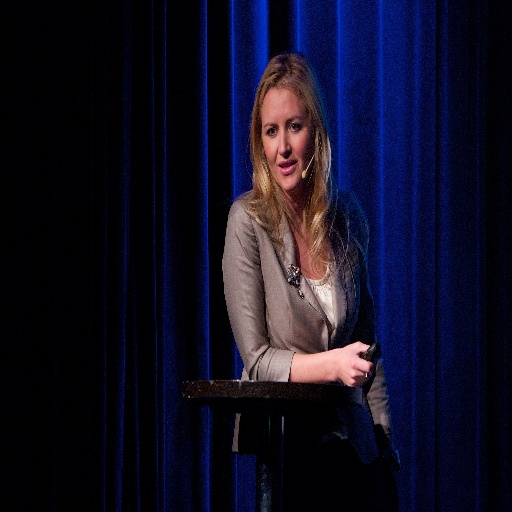hand: (328, 340, 379, 399), (380, 465, 398, 511)
